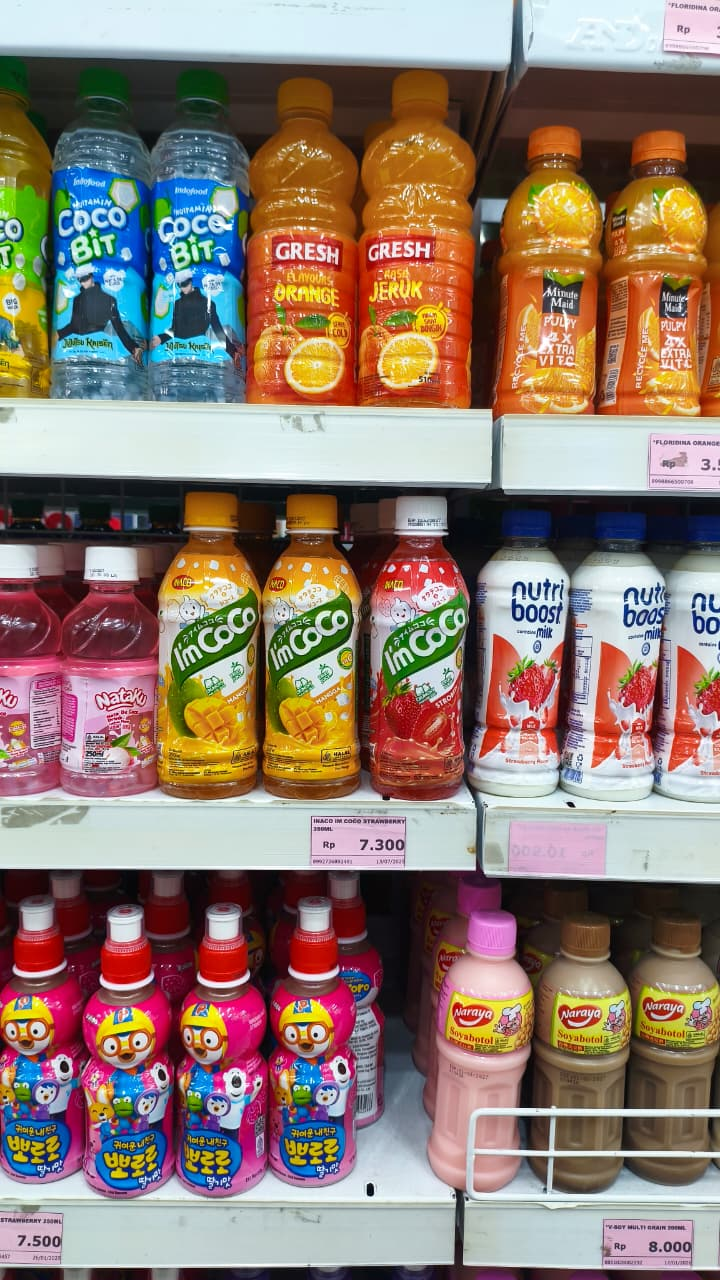Gresh jeruk: (362, 208, 462, 405)
Gresh orange: (254, 210, 354, 407)
Im coco: (163, 577, 258, 751), (379, 581, 474, 755)
Nutri boost: (497, 562, 575, 715)
